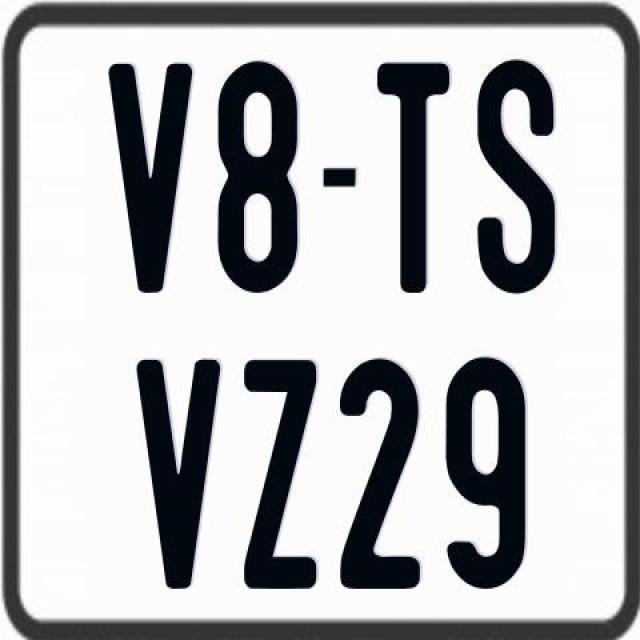2: (338, 357, 422, 589)
8: (213, 61, 295, 300)
9: (442, 357, 526, 592)
S: (473, 59, 555, 298)
T: (376, 62, 450, 301)
V: (136, 358, 227, 597), (106, 64, 190, 293)
Z: (241, 357, 319, 590)
